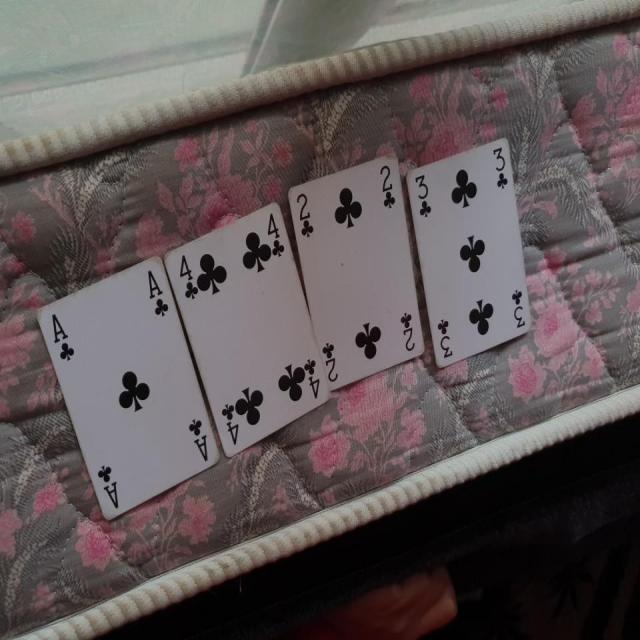2 Trefoils: (286, 150, 426, 393)
3 Trefoils: (404, 137, 532, 369)
4 Trefoils: (164, 199, 333, 459)
A Trefoils: (35, 253, 220, 522)
